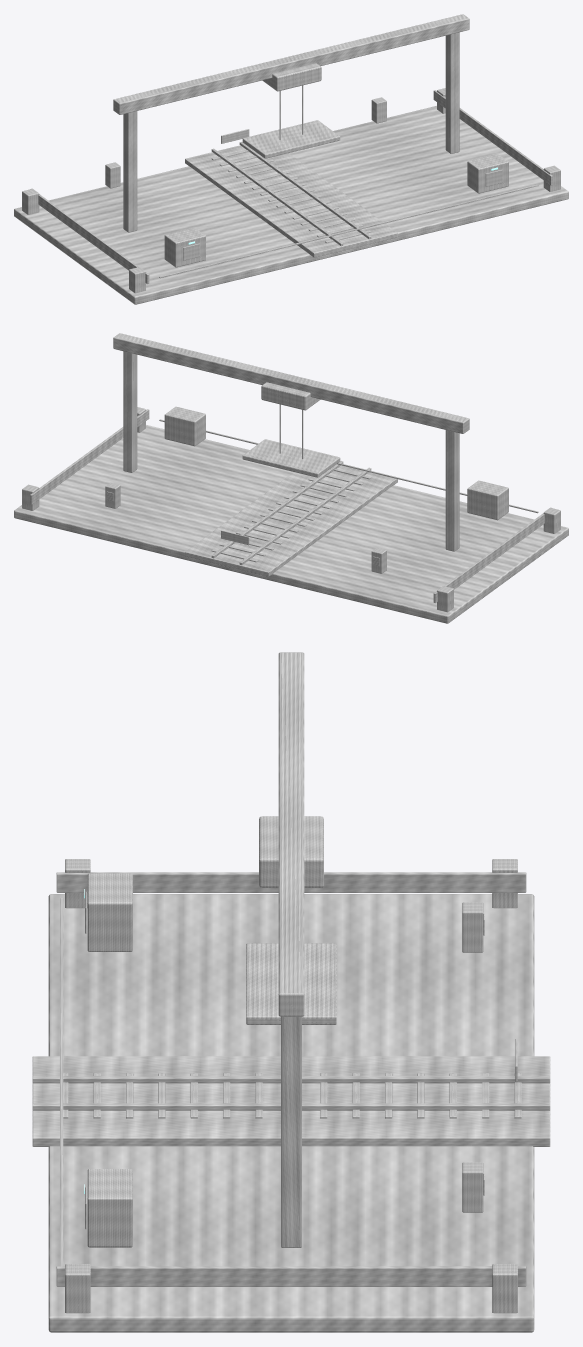
Rendered from freight_platform_variant_a.glb.
3 views of the same model, one above another, from view 1: azimuth 30°, elevation 25°; view 2: azimuth 150°, elevation 25°; view 3: azimuth 270°, elevation 25° (orthographic). The views are drawn at different scales.
Visible parts, largest first — view 1: Platform foundation, Track bed, Crane portal beam, Cargo spreader, Crane upright, Crane upright.001, Platform edge guard.001, Platform edge guard, Conveyor port housing, Conveyor port housing.001, Crane trolley, Platform warning line (+6 smaller); view 2: Platform foundation, Track bed, Crane portal beam, Cargo spreader, Crane upright, Crane upright.001, Conveyor port housing.001, Conveyor port housing, Platform edge guard.001, Platform edge guard, Crane trolley, Rail (+4 smaller); view 3: Platform foundation, Track bed, Crane portal beam, Platform edge guard.001, Platform edge guard, Cargo spreader, Crane upright, Rail.001, Rail, Conveyor port housing.001, Conveyor port housing, Crane trolley (+5 smaller).
Part boxes in pixels (left/top/right/bottom): Platform foundation: left=14, top=106, right=568, bottom=304; Track bed: left=185, top=145, right=397, bottom=257; Crane portal beam: left=113, top=14, right=469, bottom=114; Cargo spreader: left=242, top=120, right=340, bottom=158; Crane upright: left=445, top=32, right=459, bottom=153; Crane upright.001: left=123, top=111, right=137, bottom=232; Platform edge guard.001: left=433, top=90, right=552, bottom=185; Platform edge guard: left=30, top=188, right=149, bottom=283; Conveyor port housing: left=467, top=154, right=508, bottom=193; Conveyor port housing.001: left=164, top=228, right=205, bottom=267; Crane trolley: left=262, top=63, right=321, bottom=91; Platform warning line: left=159, top=184, right=538, bottom=278; Platform foundation: left=14, top=425, right=568, bottom=623; Track bed: left=185, top=465, right=397, bottom=576; Crane portal beam: left=113, top=333, right=469, bottom=433; Cargo spreader: left=242, top=439, right=340, bottom=477; Crane upright: left=123, top=351, right=137, bottom=472; Crane upright.001: left=445, top=430, right=459, bottom=551; Conveyor port housing.001: left=467, top=480, right=508, bottom=520; Conveyor port housing: left=164, top=406, right=205, bottom=446; Platform edge guard.001: left=30, top=409, right=149, bottom=504; Platform edge guard: left=433, top=507, right=552, bottom=602; Crane trolley: left=261, top=382, right=320, bottom=410; Rail: left=239, top=467, right=371, bottom=565; Platform foundation: left=48, top=894, right=534, bottom=1332; Track bed: left=32, top=1056, right=550, bottom=1146; Crane portal beam: left=278, top=652, right=304, bottom=1016; Platform edge guard.001: left=56, top=1266, right=526, bottom=1286; Platform edge guard: left=56, top=872, right=526, bottom=892; Cargo spreader: left=246, top=943, right=336, bottom=1024; Crane upright: left=281, top=1016, right=301, bottom=1247; Rail.001: left=32, top=1103, right=550, bottom=1110; Rail: left=32, top=1076, right=550, bottom=1083; Conveyor port housing.001: left=87, top=873, right=132, bottom=951; Conveyor port housing: left=87, top=1169, right=132, bottom=1247; Crane trolley: left=259, top=816, right=323, bottom=887.
Size of what is drawn, in the model's own units: 31 by 10.3 by 16.
7 materials, 7 textured.
